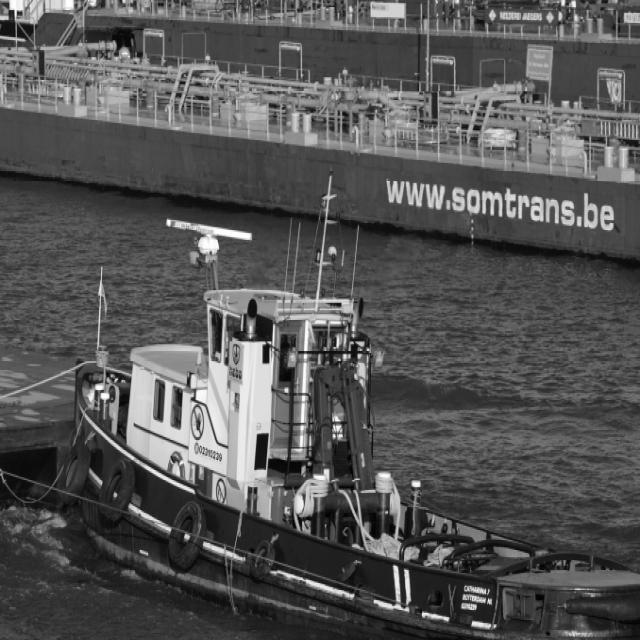tugboat: (78, 271, 640, 640)
